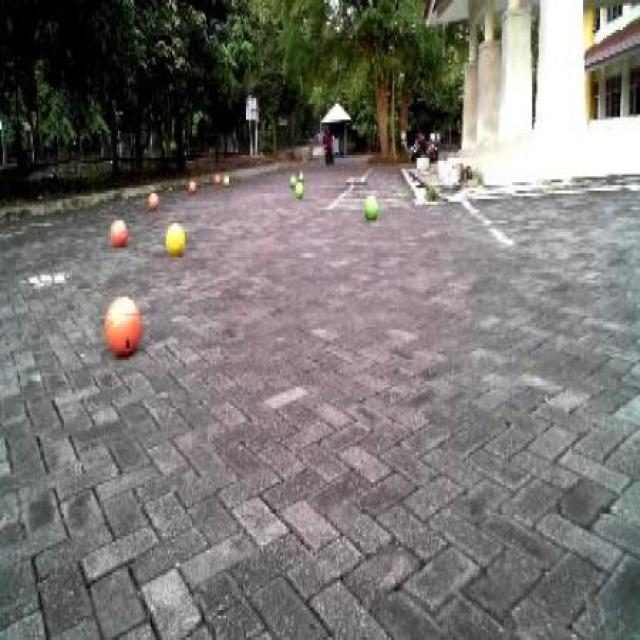buoy: (100, 287, 146, 364), (107, 210, 133, 251), (162, 219, 189, 257), (358, 186, 383, 225), (143, 185, 161, 215), (291, 174, 306, 198)
